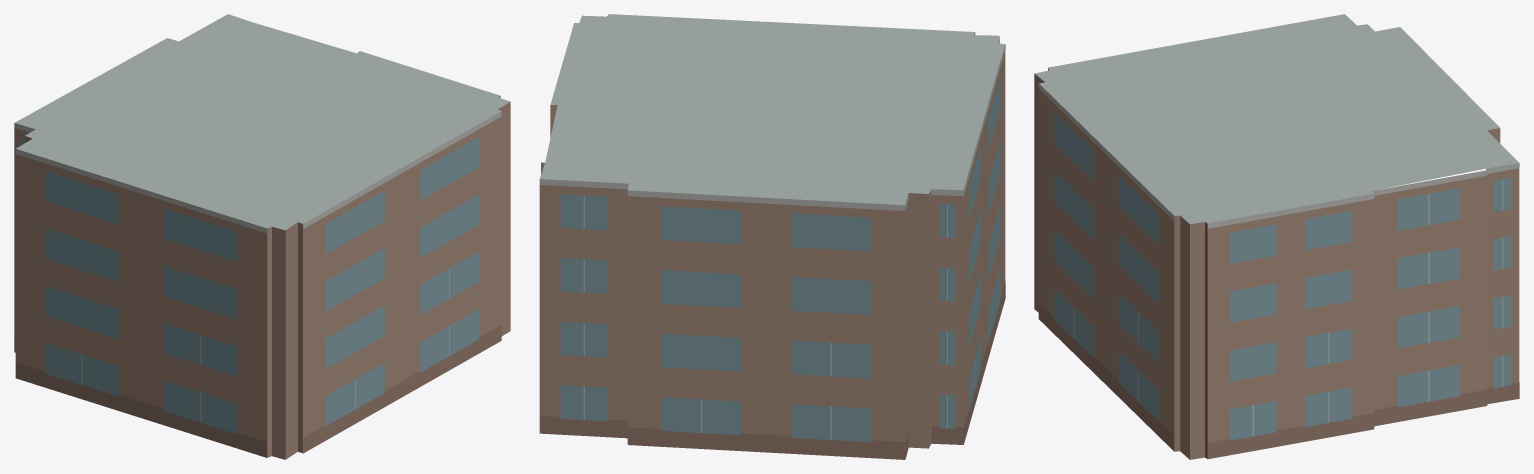
The model's file is survey-upis-32772415.glb.
3 views of the same model, side by side, from view 1: azimuth 30°, elevation 25°; view 2: azimuth 150°, elevation 25°; view 3: azimuth 270°, elevation 25° (orthographic). The views are drawn at different scales.
Parts seen in each view (by area): view 1: survey-upis-32772415.tmp; view 2: survey-upis-32772415.tmp; view 3: survey-upis-32772415.tmp.
Boxes of the visible parts, <box> form: survey-upis-32772415.tmp: <box>14,14,510,459</box>; survey-upis-32772415.tmp: <box>539,14,1005,459</box>; survey-upis-32772415.tmp: <box>1034,14,1519,459</box>.
Bounding box in the file's own units: 20.57 × 10.75 × 20.05.
